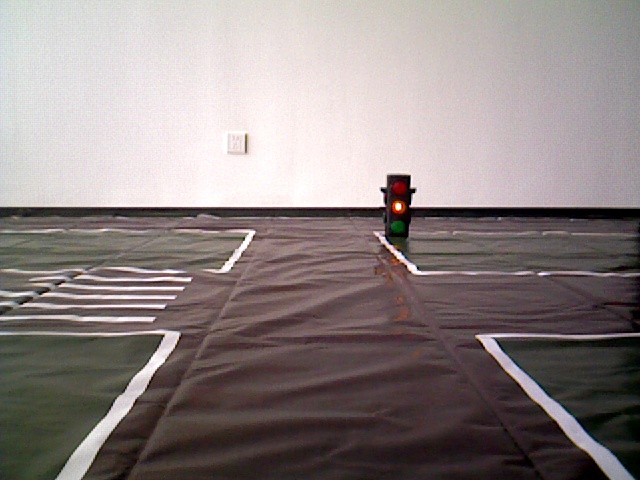yellow: (384, 176, 414, 245)
